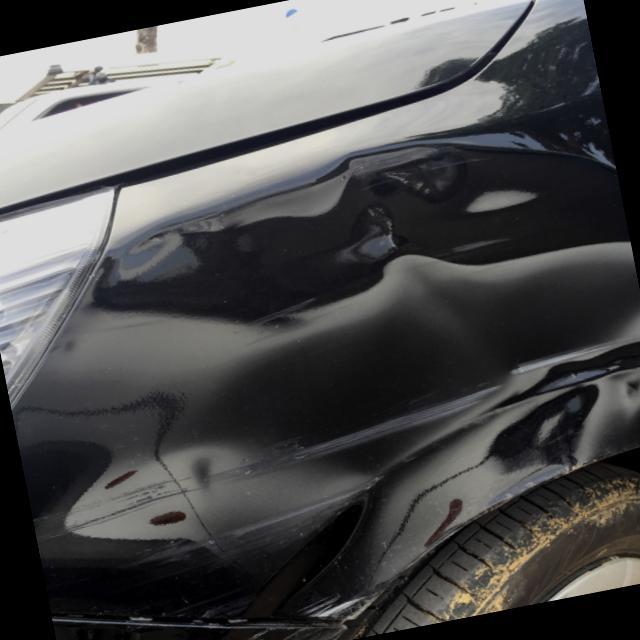Rayure: (19, 332, 637, 560), (55, 568, 396, 640)
